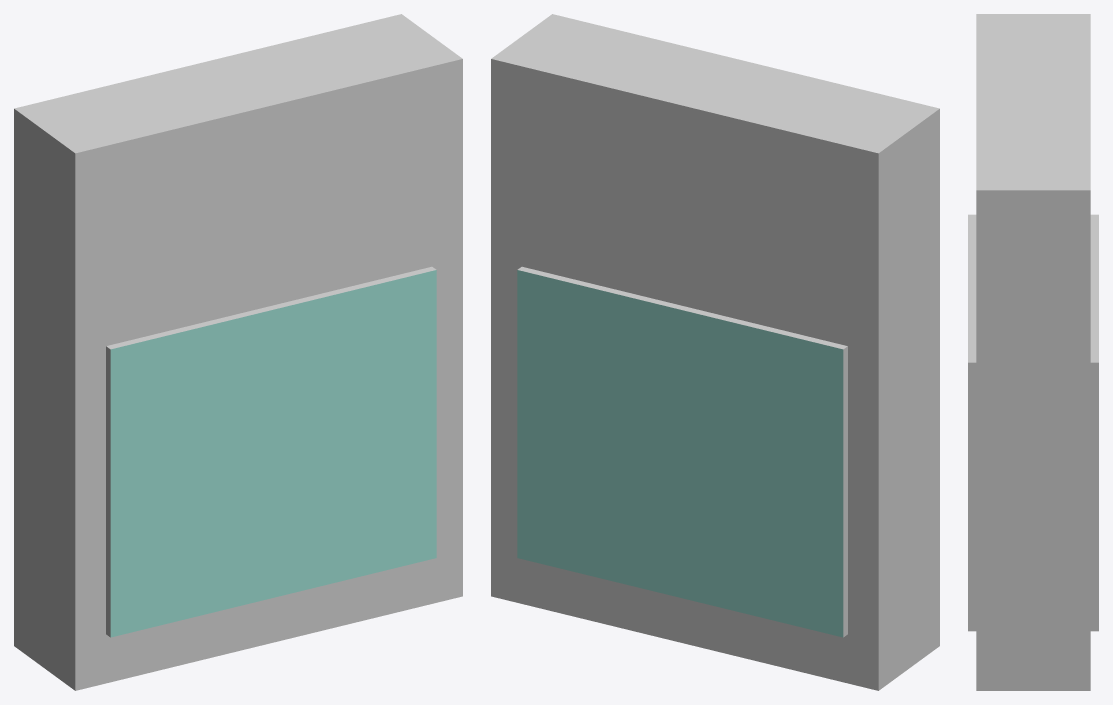
File: common1.fbx
3 views of the same model, side by side, from view 1: azimuth 30°, elevation 25°; view 2: azimuth 150°, elevation 25°; view 3: azimuth 270°, elevation 25° (orthographic). The views are drawn at different scales.
Visible parts, largest first — view 1: Cube; view 2: Cube; view 3: Cube.
Boxes of the visible parts, x1,y1,x2,y2 form: Cube: (14,14,462,690); Cube: (491,14,939,690); Cube: (968,14,1098,690).
Bounding box in the file's own units: 28 × 37.11 × 8.79.
